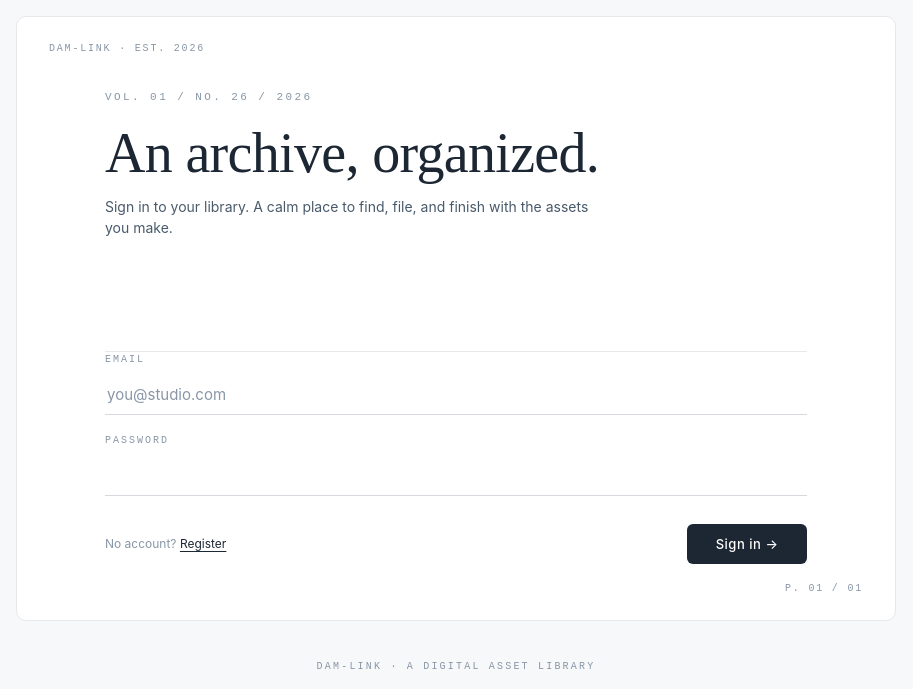
Test: LoginScreen mode switching (T2) › switches to register: shows Name field, updates copy, swaps button label
The width and height of the screenshot is (913, 689).
Expected: the field labelled "name" is not shown
Expected: the button "Sign in →" is shown, [687,524,807,564]
Note: Click the switch
Click the button "Register": [203, 544] box [180,524,226,564]
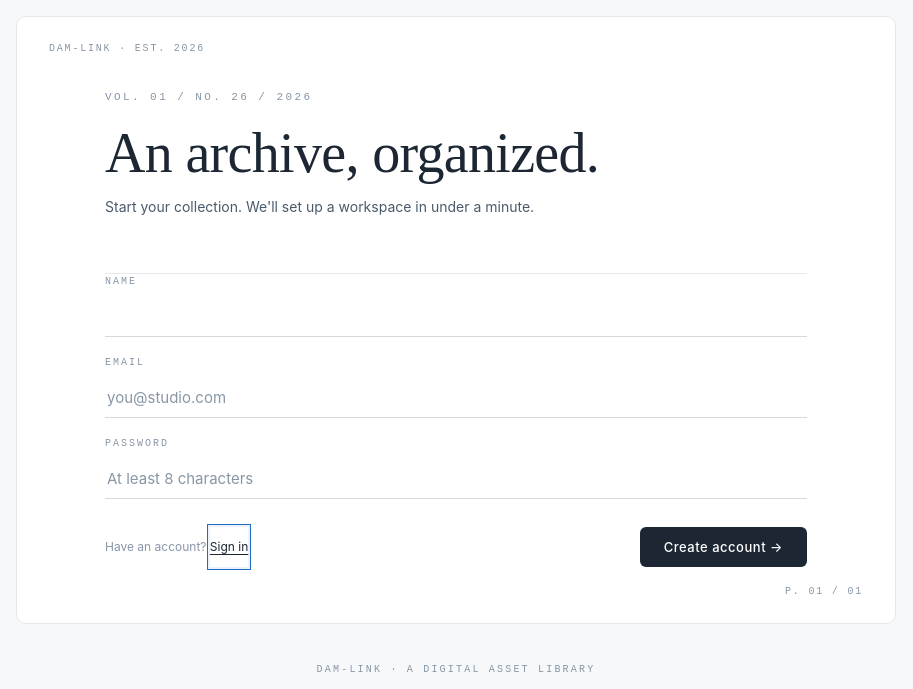
Expected: the field labelled "Name" is shown, [105,297,807,337]
Expected: the button "Create account →" is shown, [640,527,807,567]
Expected: the text "Start your collection" is shown, [105,198,534,215]
